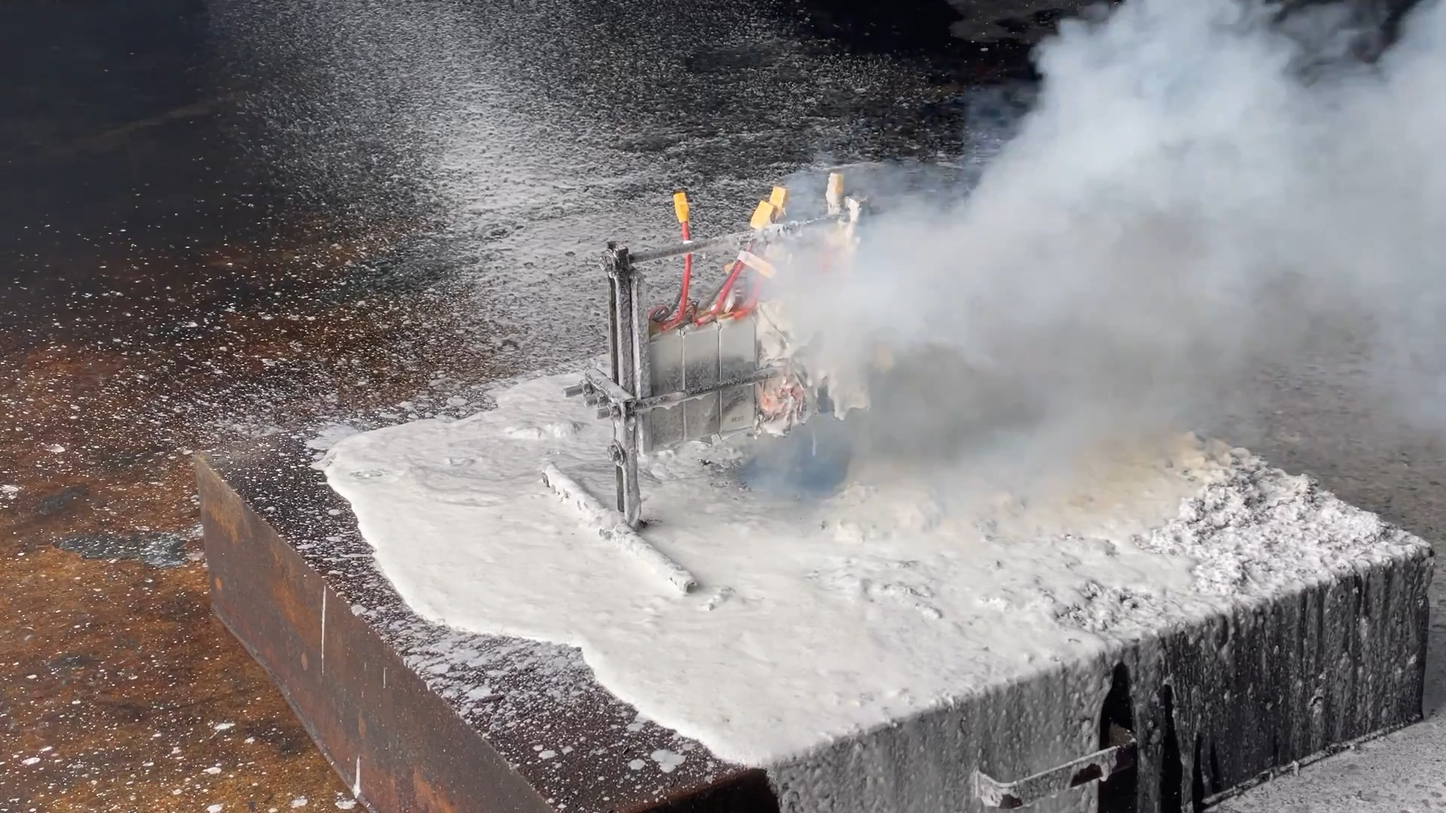smoke: (741, 1, 1446, 489)
